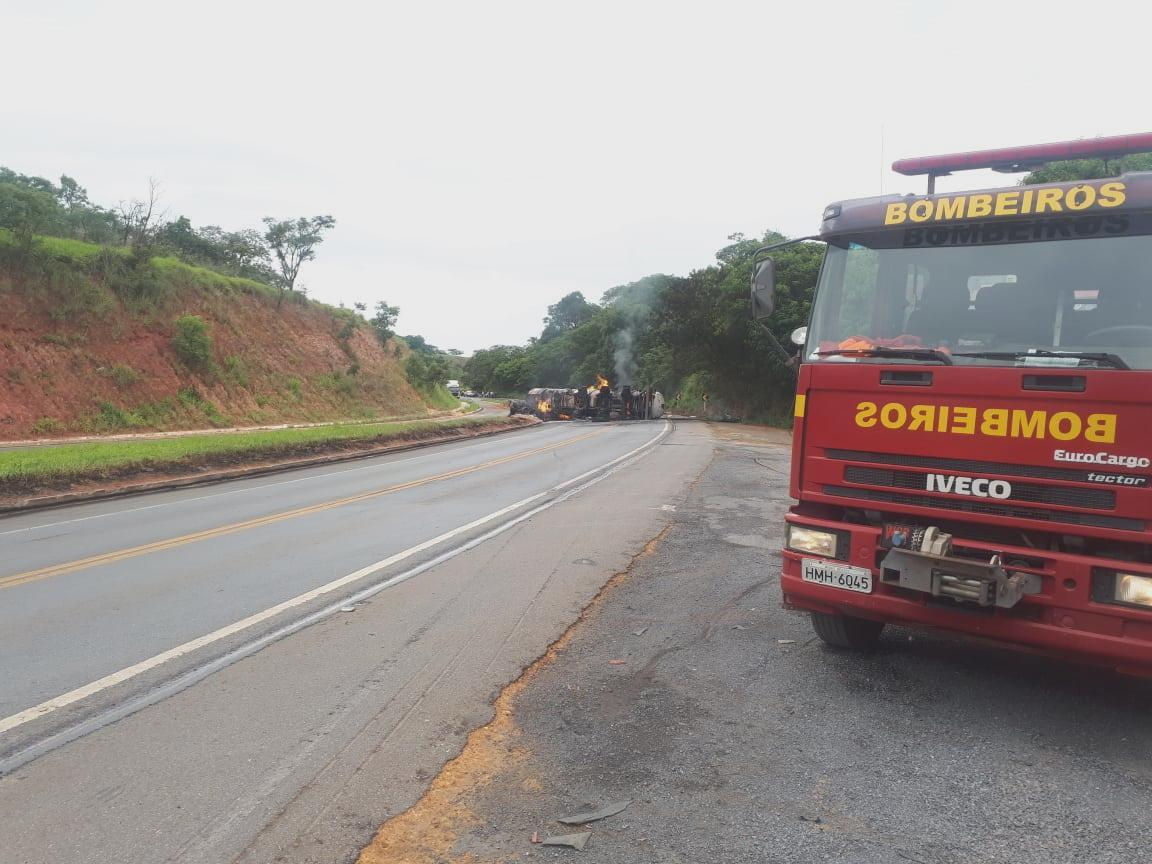Fire: (536, 397, 555, 414), (598, 373, 609, 389)
